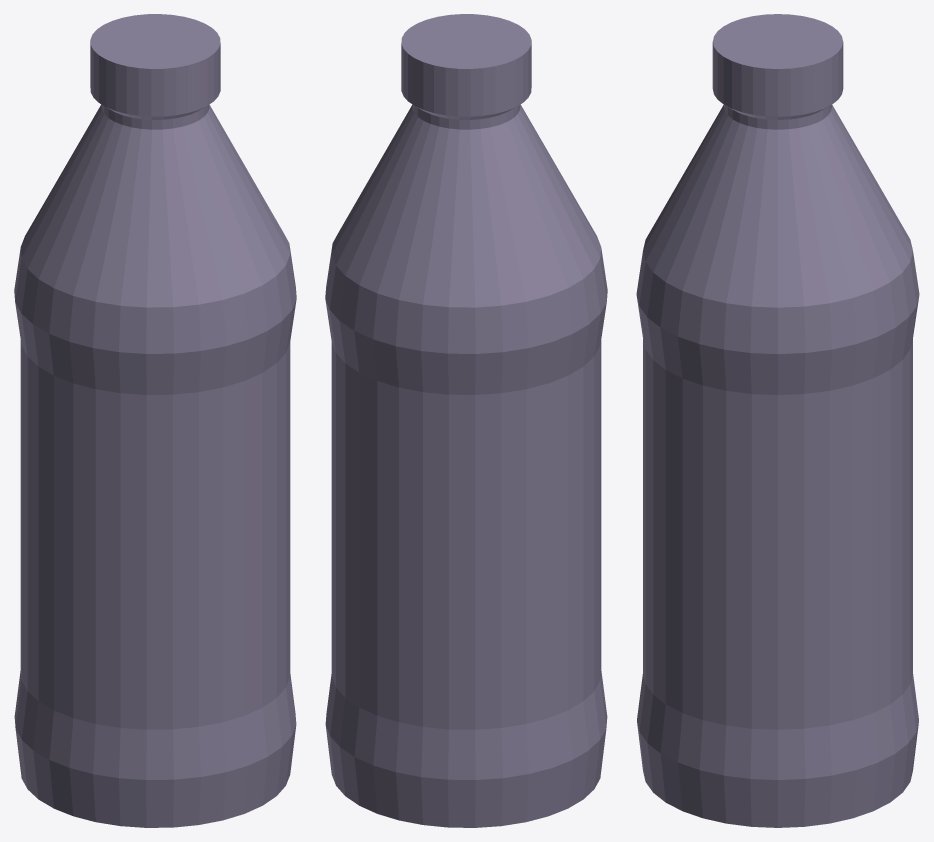
File: şişe 1.fbx
3 views of the same model, side by side, from view 1: azimuth 30°, elevation 25°; view 2: azimuth 150°, elevation 25°; view 3: azimuth 270°, elevation 25° (orthographic).
Parts seen in each view (by area): view 1: Cylinder.036; view 2: Cylinder.036; view 3: Cylinder.036.
Part boxes in pixels (x1,y1,x2,y2): Cylinder.036: (14, 14, 296, 827); Cylinder.036: (325, 14, 607, 827); Cylinder.036: (636, 14, 919, 827).
Size of the model in its own units: 112 by 320 by 112.
